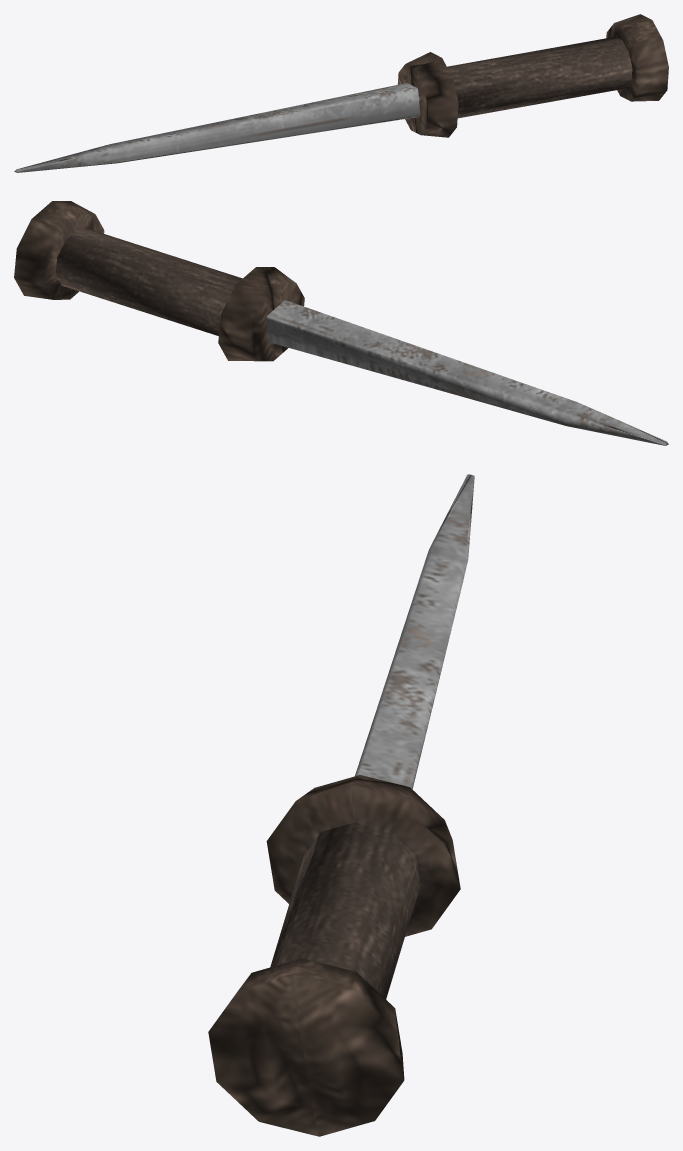
File: wp_dagger.glb
The picture shows the model from 3 angles, top to bottom: view 1: azimuth 30°, elevation 25°; view 2: azimuth 150°, elevation 25°; view 3: azimuth 270°, elevation 25°; orthographic projection. The views are drawn at different scales.
Parts seen in each view (by area): view 1: arms.001; view 2: arms.001; view 3: arms.001.
Boxes of the visible parts, box(x1,y1,x2,y2) form: arms.001: box(14, 14, 668, 172); arms.001: box(14, 201, 668, 445); arms.001: box(208, 474, 474, 1136).
Bounding box in the file's own units: 1.45 × 0.1832 × 0.2769.
Materials: 1 (1 with a texture image).
